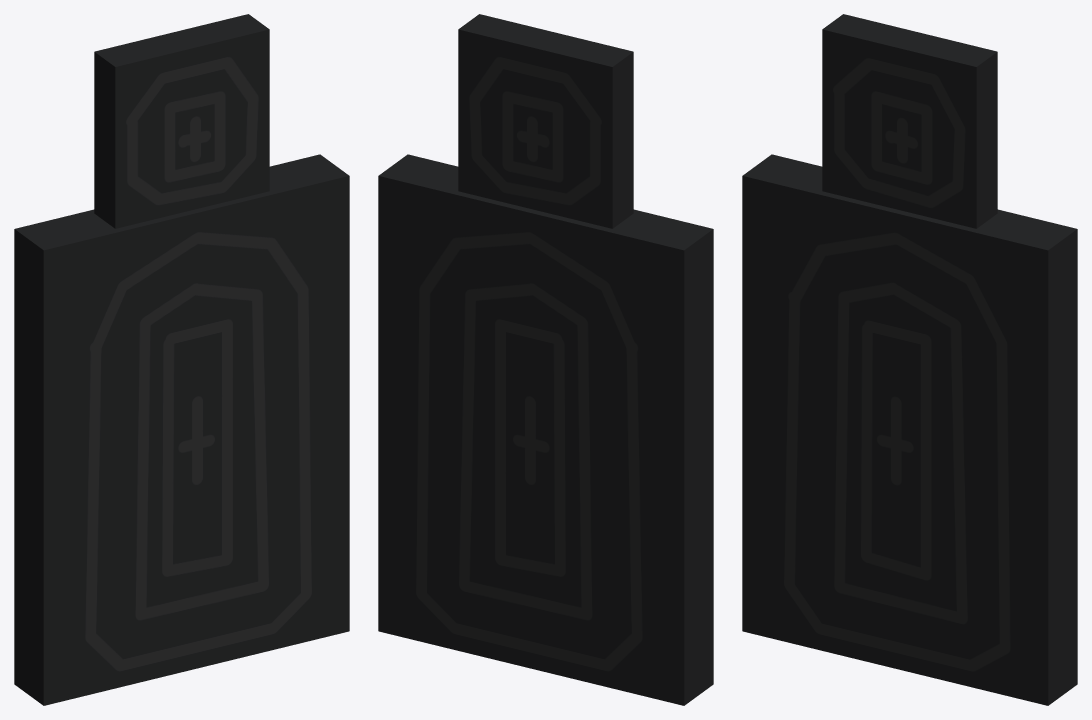
Rendered from TargetFinal.fbx.
3 views of the same model, side by side, from view 1: azimuth 30°, elevation 25°; view 2: azimuth 150°, elevation 25°; view 3: azimuth 330°, elevation 25° (orthographic).
Parts seen in each view (by area): view 1: TargetFinal; view 2: TargetFinal; view 3: TargetFinal.
Boxes of the visible parts, x1,y1,x2,y2 form: TargetFinal: (14,14,349,705); TargetFinal: (378,14,713,705); TargetFinal: (742,14,1077,705).
Size of the model in its own units: 3.51 by 6.78 by 0.5839.
Materials: 1 (1 with a texture image).
